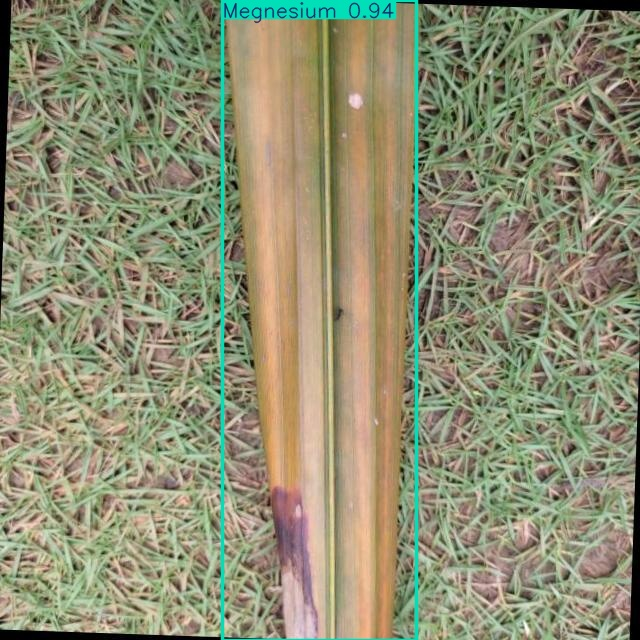Megnesium: (222, 0, 417, 640)
